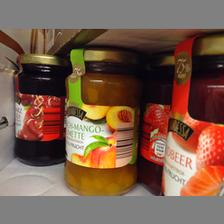Marmelade: (62, 48, 142, 194), (158, 36, 222, 196), (13, 54, 67, 166)
